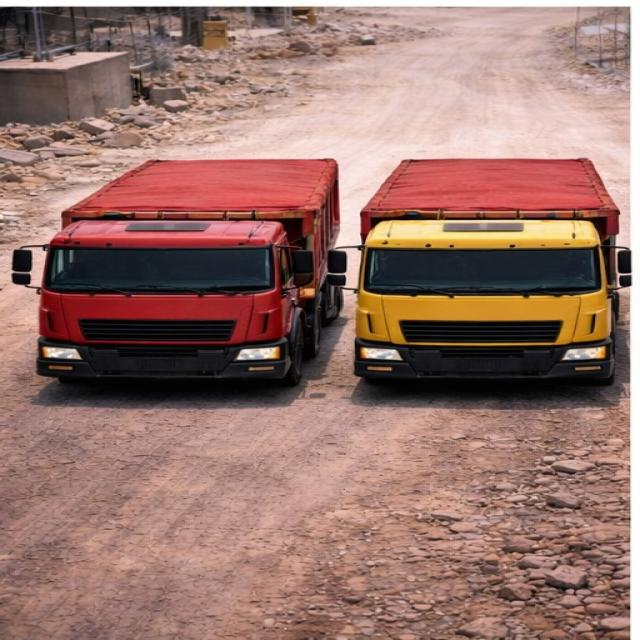Box: (64, 155, 335, 222), (363, 155, 611, 215)
Truck: (11, 146, 327, 392), (329, 146, 630, 392)
